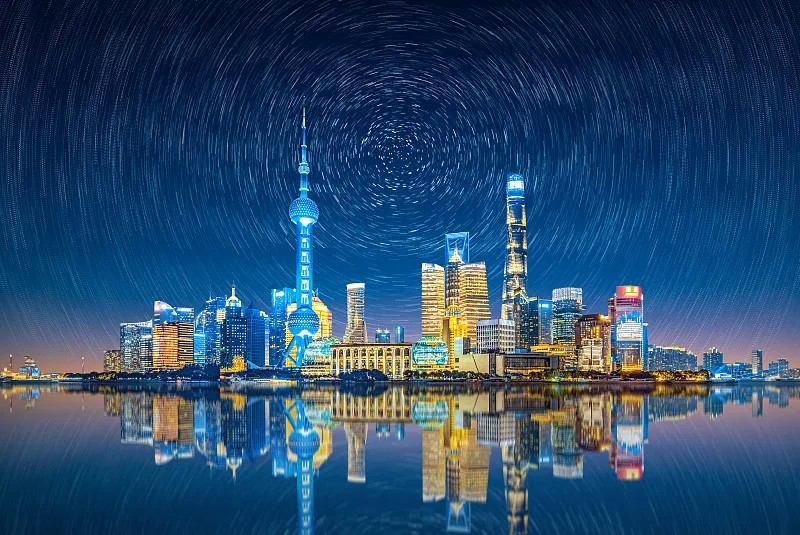Oriental: (277, 108, 321, 367)
